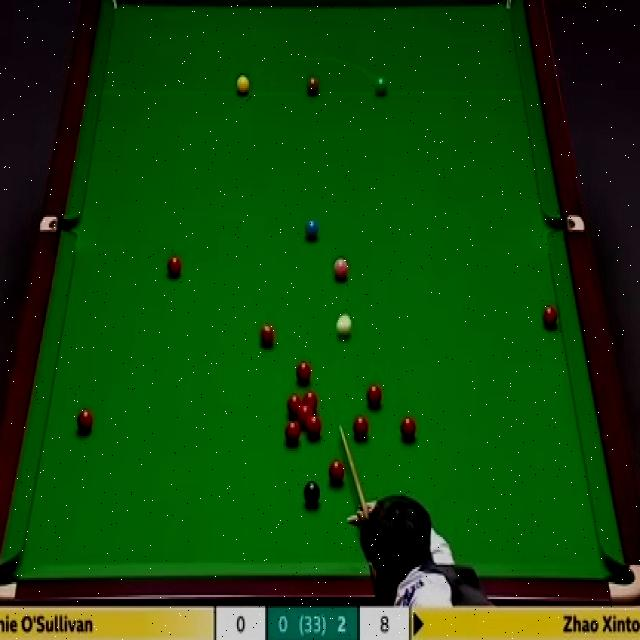black-ball: (304, 479, 322, 508)
blue-ball: (304, 218, 320, 242)
brown-ball: (306, 75, 320, 96)
green-ball: (373, 75, 388, 96)
pink-ball: (330, 258, 352, 288)
red-ball: (327, 457, 347, 486), (542, 303, 560, 334), (75, 408, 93, 434), (165, 256, 184, 280), (366, 382, 383, 408), (400, 417, 417, 443), (352, 416, 368, 441), (259, 322, 274, 347), (306, 417, 322, 440), (296, 362, 312, 385), (286, 397, 303, 418), (302, 391, 319, 412), (285, 422, 300, 444), (298, 406, 312, 424)
white-ball: (335, 314, 354, 341)
yellow-ball: (236, 76, 250, 96)
